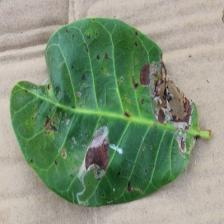leaf miner: (9, 16, 211, 207)
